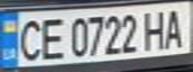0: (66, 14, 90, 58)
2: (118, 10, 142, 55), (103, 11, 124, 56)
7: (84, 12, 106, 56)
A: (160, 6, 190, 49)
C: (12, 16, 45, 63)
E: (36, 15, 66, 61)
H: (139, 7, 172, 51)
